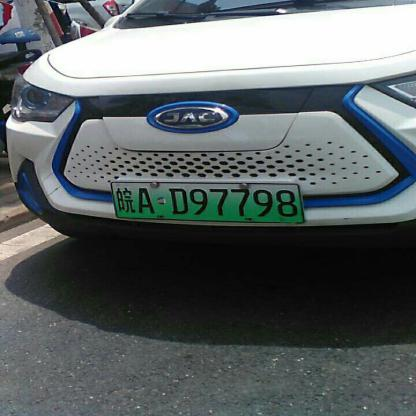lp: (112, 182, 304, 223)
